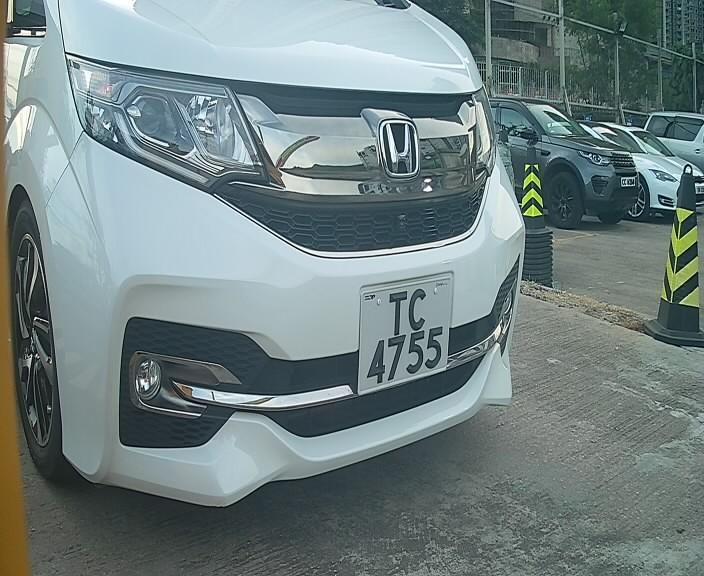privatecar: (13, 21, 547, 510)
